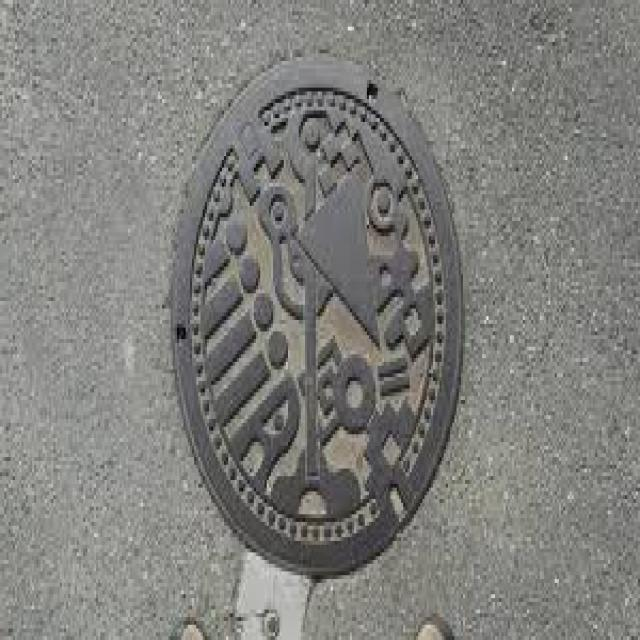Sewer Cover: (138, 41, 477, 597)
